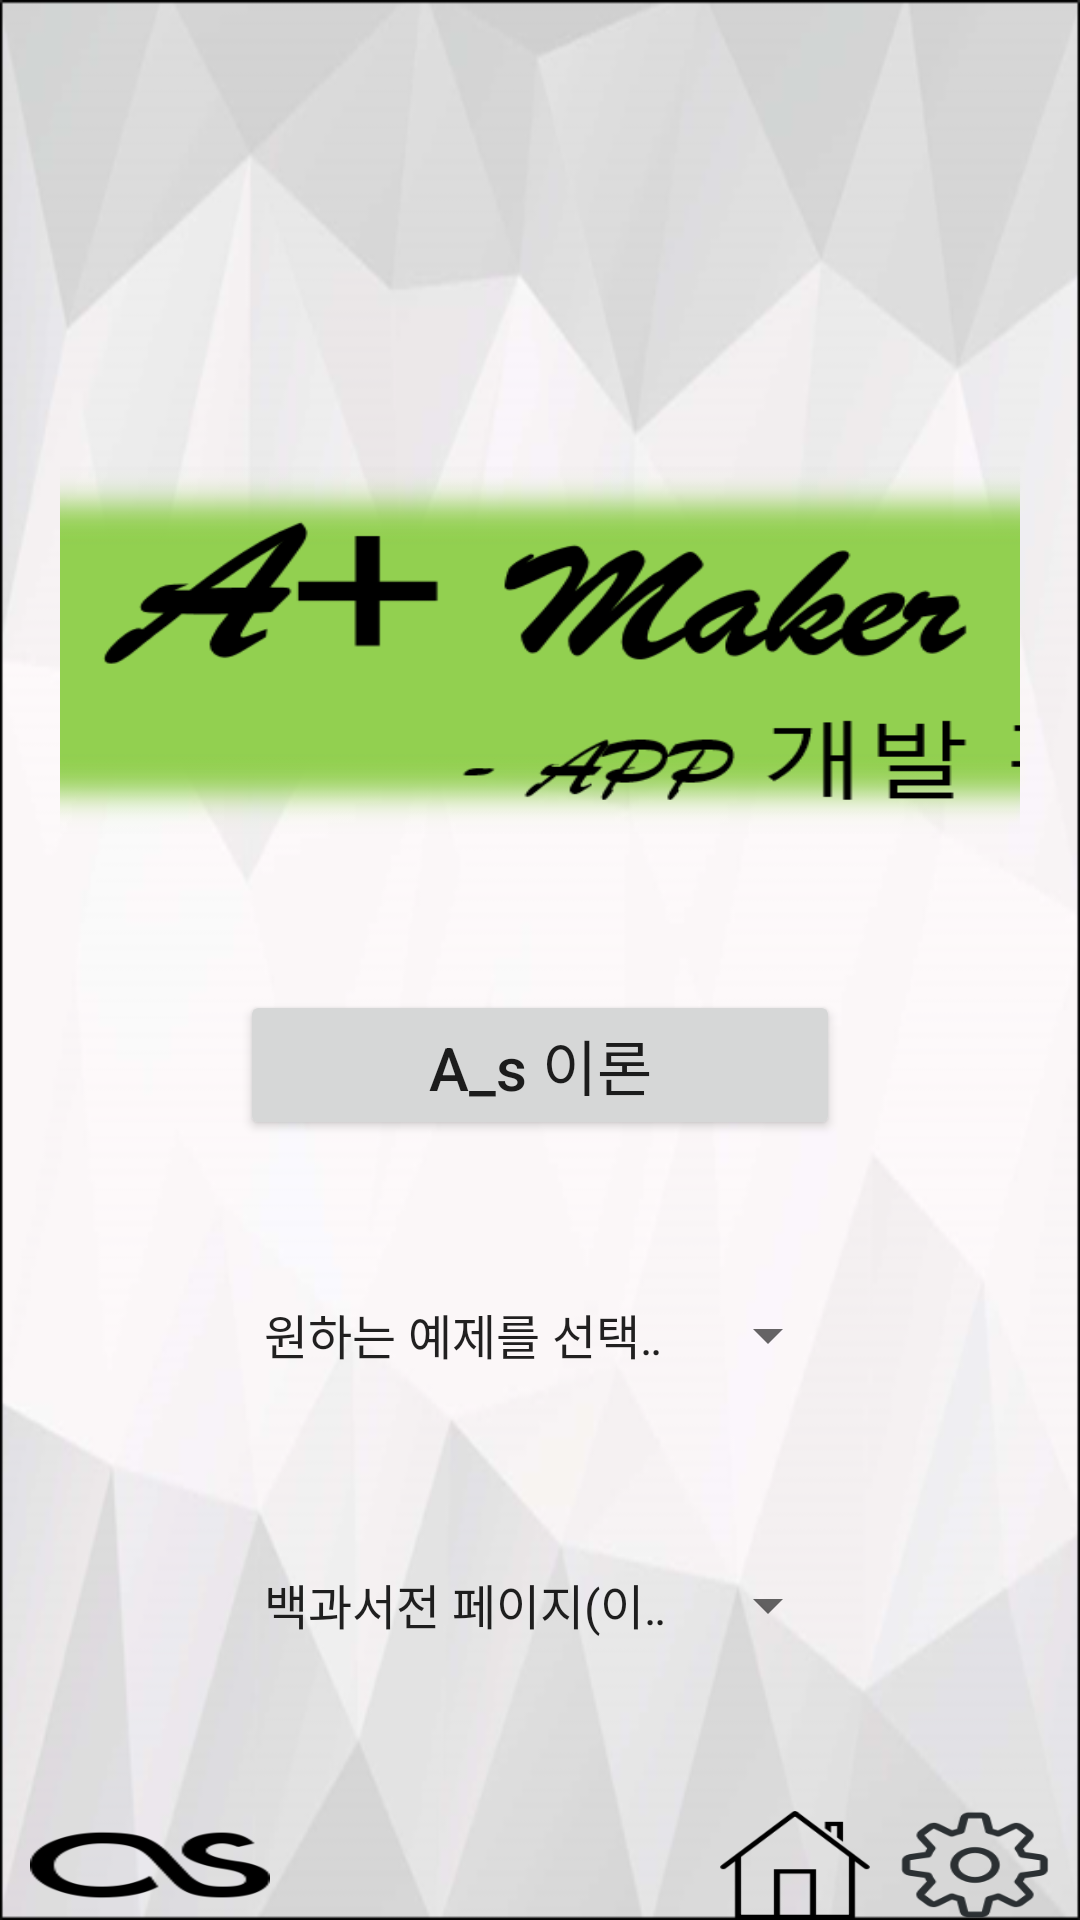

Named icons in this screenshot (1080x1920) and their bounding boxes, (x1, y1, x2, y2):
home: (720, 1811, 870, 1919)
setting: (900, 1811, 1050, 1919)
